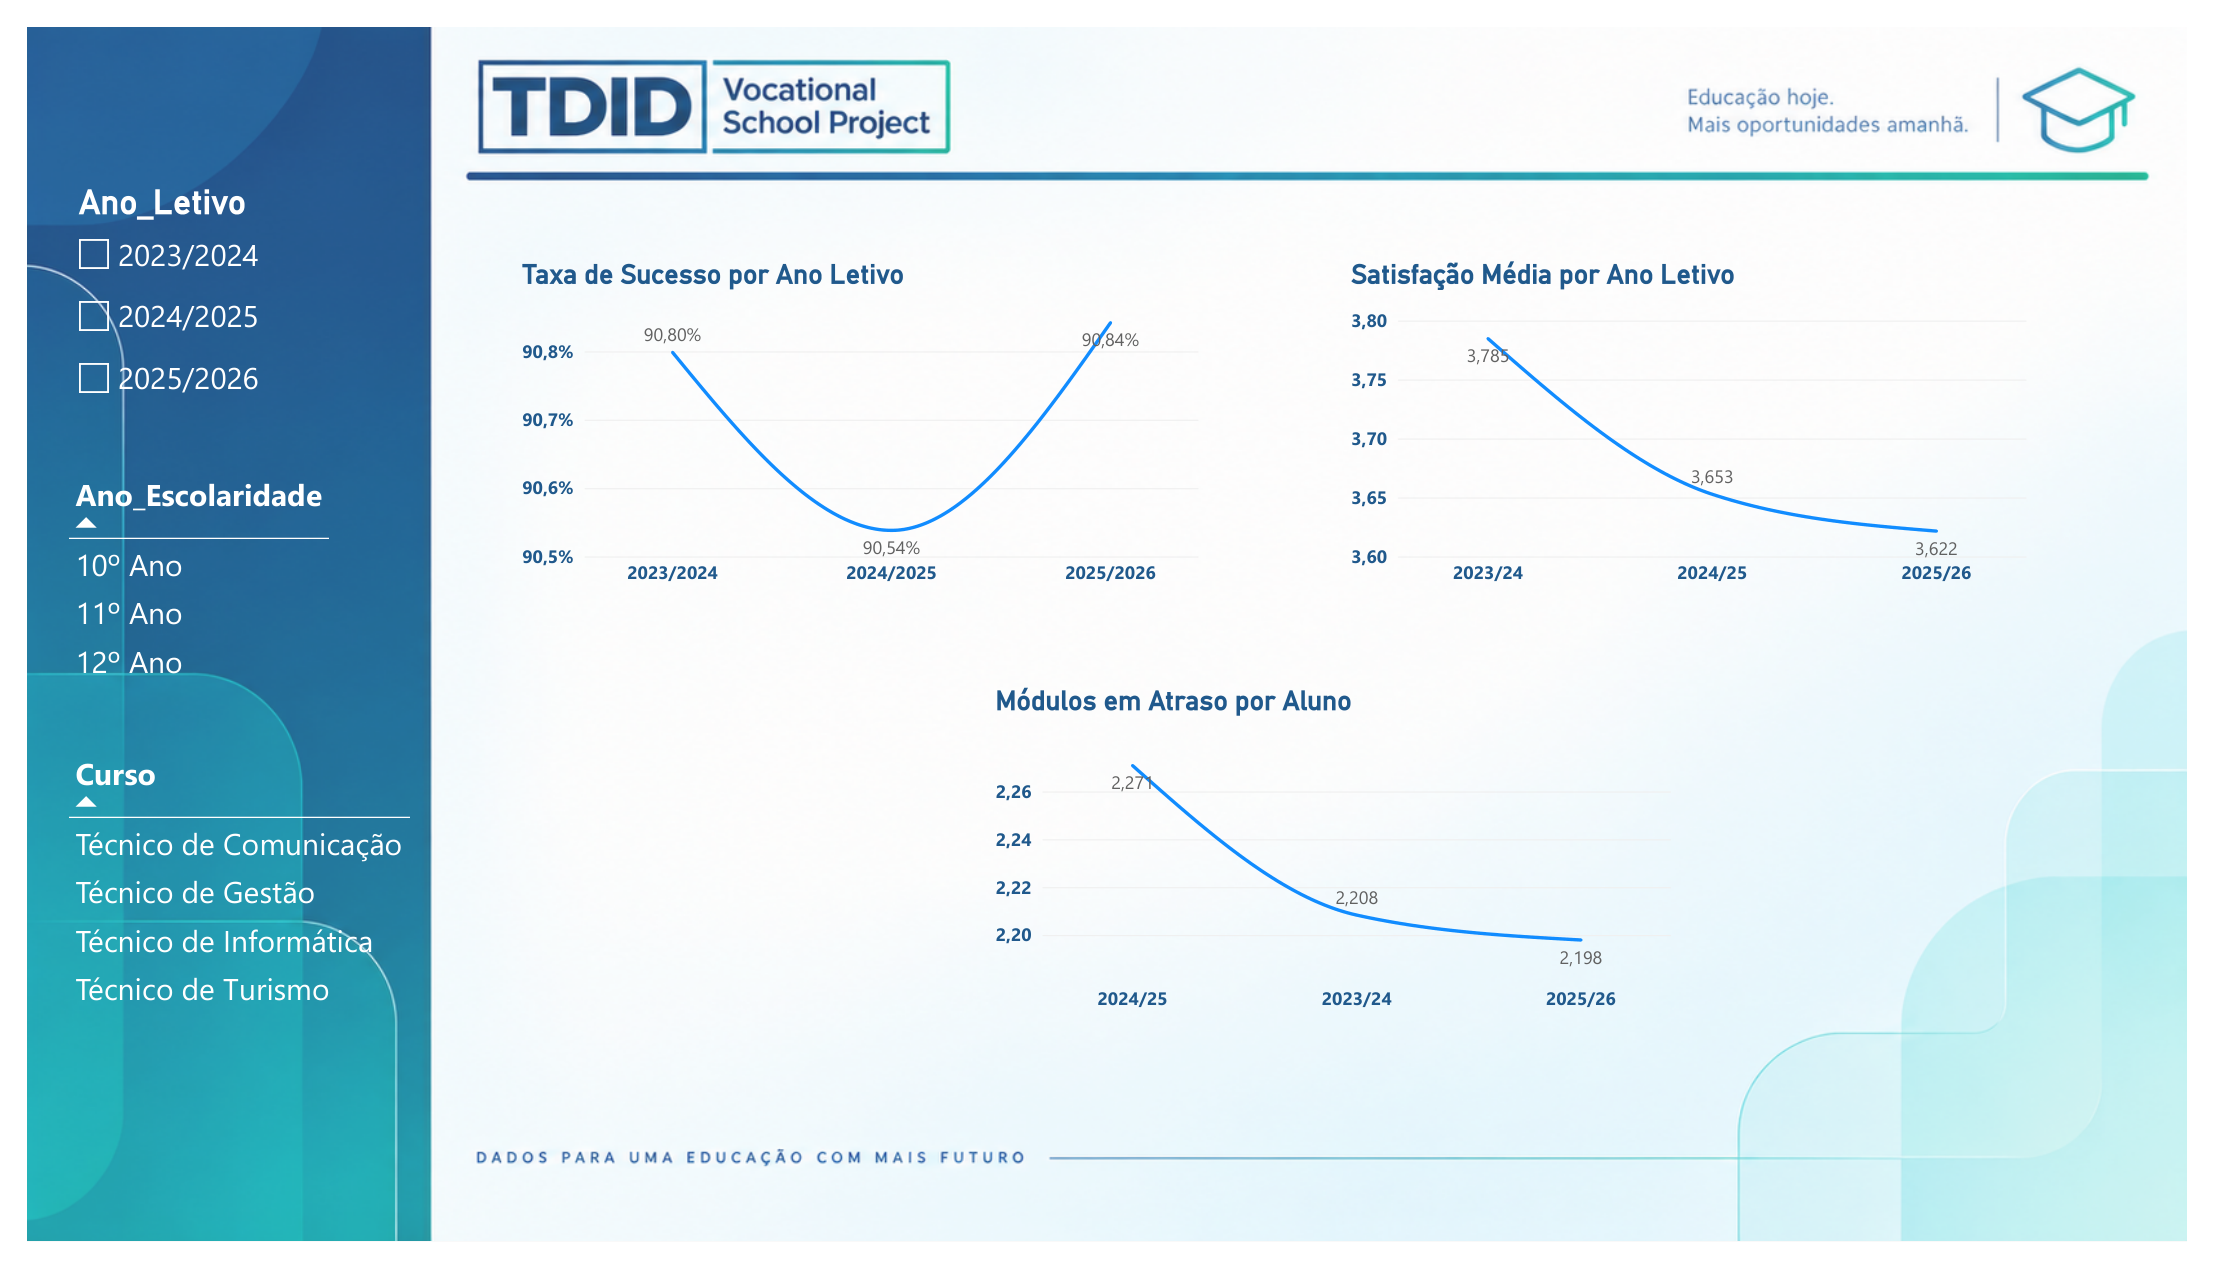

The dashboard page shown, as its layout file describes it:
{"tool":"powerbi","page":{"name":"Evolução e Tendências","canvas":[1920,1080],"ordinal":7},"visuals":[{"type":"tableEx","fields":{"Values":["dCurso.Curso"]},"box":[21.5,627.5,362.7,326.9],"z":0},{"type":"slicer","fields":{"Values":["dCalendario.Ano_Letivo"]},"box":[38.2,138.4,195.6,217.1],"z":1000},{"type":"tableEx","fields":{"Values":["dMatricula.Ano_Escolaridade"]},"box":[21.5,379.4,295.9,248.1],"z":2000},{"type":"lineChart","title":"Taxa de Sucesso por Ano Letivo","fields":{"Category":["dCalendario.Ano_Letivo"],"Y":["_Medidas.Taxa de Sucesso"]},"box":[424.3,191.5,632.3,326.9],"z":3000},{"type":"lineChart","title":"Satisfação Média por Ano Letivo","fields":{"Category":["dMatricula.Ano_Letivo"],"Y":["_Medidas.Satisfação Média"]},"box":[1161.1,191.5,632.3,326.9],"z":4000},{"type":"lineChart","title":"Módulos em Atraso por Aluno","fields":{"Category":["dMatricula.Ano_Letivo"],"Y":["_Medidas.Média Módulos em Atraso por Aluno"]},"box":[844.6,570.6,632.3,326.9],"z":5000}]}

Visuals, with their boxes in screenshot pixels (x1, y1, x2, y2), scaled from the page's 1920x1080 canvas onto the 2214x1269 screenshot:
tableEx - dCurso.Curso: box(25, 737, 443, 1121)
slicer - dCalendario.Ano_Letivo: box(44, 163, 270, 418)
tableEx - dMatricula.Ano_Escolaridade: box(25, 446, 366, 737)
"Taxa de Sucesso por Ano Letivo" lineChart: box(489, 225, 1218, 609)
"Satisfação Média por Ano Letivo" lineChart: box(1339, 225, 2068, 609)
"Módulos em Atraso por Aluno" lineChart: box(974, 670, 1703, 1055)
